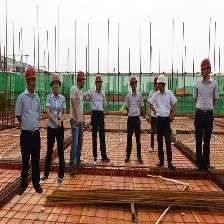helmet: (22, 66, 39, 83), (198, 59, 214, 71), (49, 76, 62, 87), (75, 71, 87, 81), (157, 75, 169, 85), (130, 76, 140, 87), (94, 76, 105, 83)
no-vest: (19, 90, 41, 134), (196, 81, 218, 121), (47, 94, 69, 132), (69, 86, 85, 121), (154, 92, 176, 117), (90, 90, 109, 117), (126, 91, 144, 118)
person: (17, 65, 42, 198), (192, 58, 220, 175), (153, 74, 179, 172), (68, 68, 86, 180), (47, 73, 64, 189), (89, 75, 109, 165), (127, 73, 144, 168)
